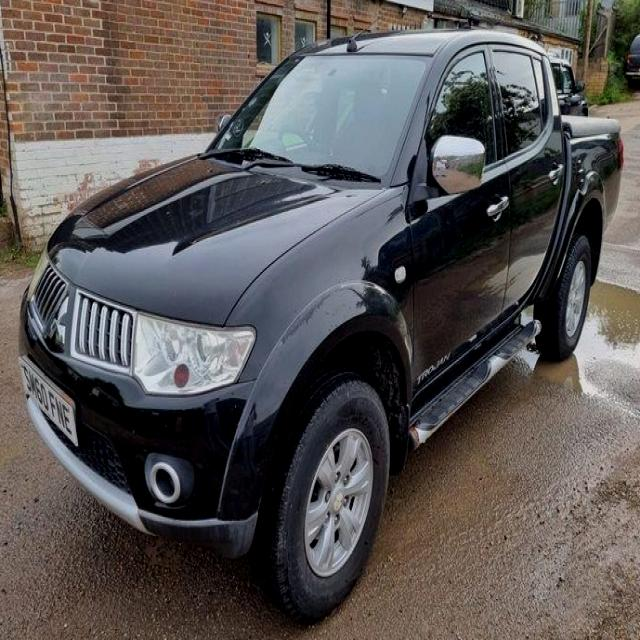CMT: (16, 31, 614, 598)
